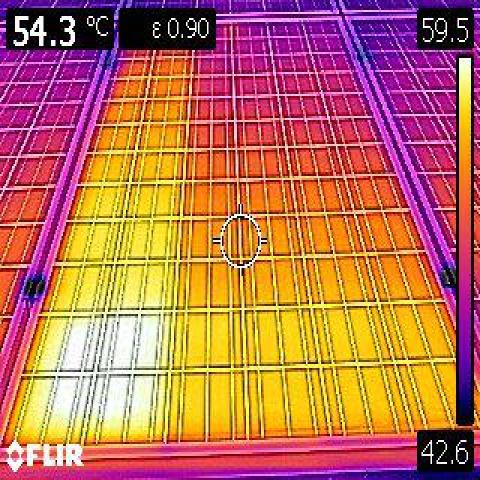fault: (0, 15, 198, 444)
